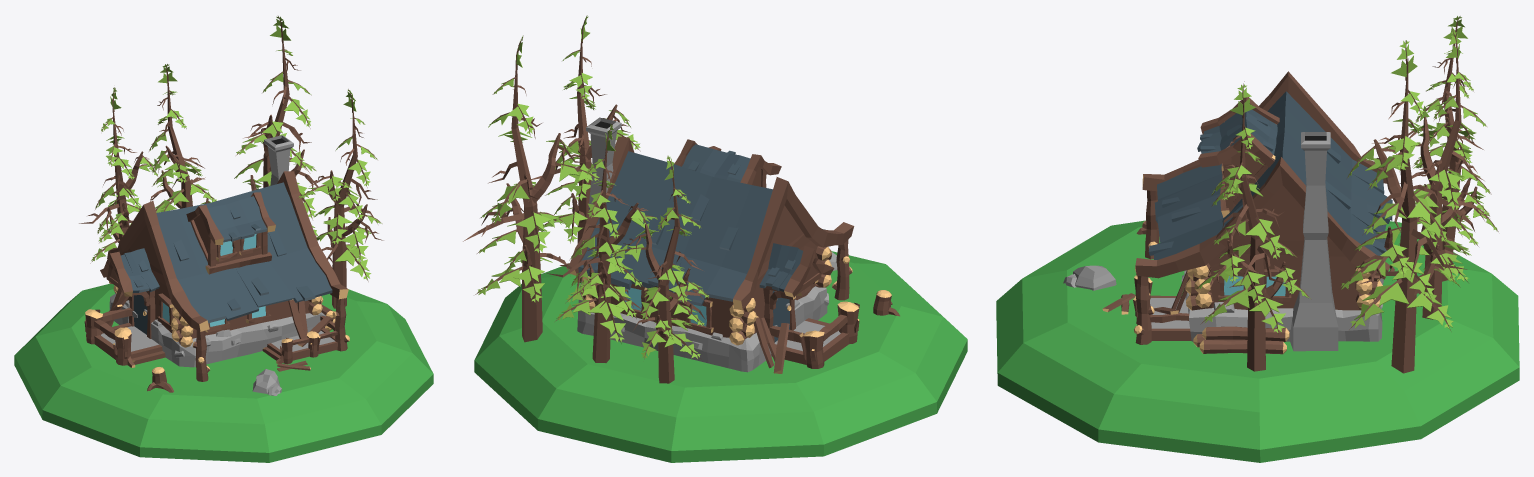
File: cabin.glb
3 renders of one model, left to right at view 1: azimuth 30°, elevation 25°; view 2: azimuth 150°, elevation 25°; view 3: azimuth 270°, elevation 25°, orthographic. The views are drawn at different scales.
Visible parts, largest first — view 1: group1463622282, group1959508968, group452503139, group111155014, group1801783179, group551173013, group219459434, group1958003972, group182768936, group374118918, group834835194, group288122642 (+14 smaller); view 2: group1463622282, group1959508968, group111155014, group219459434, group551173013, group452503139, group2091678014, group1958003972, group834835194, group374118918, group1383119677, group213256307 (+10 smaller); view 3: group1463622282, group111155014, group1959508968, group452503139, group1383119677, group219459434, group708783982, group182768936, group551173013, group2091678014, group1958003972, group374118918 (+10 smaller).
Boxes of the visible parts, left/top/right/bottom form: group1463622282: left=14, top=283, right=433, bottom=462; group1959508968: left=156, top=182, right=332, bottom=323; group452503139: left=297, top=89, right=383, bottom=308; group111155014: left=234, top=16, right=318, bottom=240; group1801783179: left=151, top=313, right=319, bottom=367; group551173013: left=79, top=87, right=157, bottom=263; group219459434: left=149, top=64, right=216, bottom=212; group1958003972: left=107, top=201, right=209, bottom=331; group182768936: left=277, top=171, right=348, bottom=299; group374118918: left=208, top=196, right=267, bottom=242; group834835194: left=126, top=225, right=174, bottom=332; group288122642: left=121, top=248, right=159, bottom=292; group1463622282: left=474, top=251, right=967, bottom=462; group1959508968: left=578, top=151, right=825, bottom=306; group111155014: left=463, top=35, right=599, bottom=342; group219459434: left=546, top=123, right=657, bottom=362; group551173013: left=608, top=155, right=709, bottom=383; group452503139: left=531, top=15, right=640, bottom=282; group2091678014: left=577, top=310, right=771, bottom=372; group1958003972: left=733, top=177, right=854, bottom=310; group834835194: left=746, top=205, right=817, bottom=338; group374118918: left=682, top=144, right=750, bottom=182; group1383119677: left=578, top=117, right=621, bottom=302; group213256307: left=611, top=284, right=733, bottom=337; group1463622282: left=996, top=220, right=1519, bottom=462; group111155014: left=1338, top=40, right=1467, bottom=373; group1959508968: left=1154, top=91, right=1392, bottom=259; group452503139: left=1196, top=81, right=1311, bottom=371; group1383119677: left=1290, top=132, right=1338, bottom=351; group219459434: left=1383, top=29, right=1489, bottom=319; group708783982: left=1209, top=185, right=1360, bottom=310; group182768936: left=1135, top=157, right=1389, bottom=279; group551173013: left=1399, top=16, right=1498, bottom=281; group2091678014: left=1189, top=278, right=1383, bottom=341; group1958003972: left=1142, top=71, right=1386, bottom=191; group374118918: left=1197, top=109, right=1277, bottom=154.
Bounding box in the file's own units: 5 × 3.85 × 4.77.
